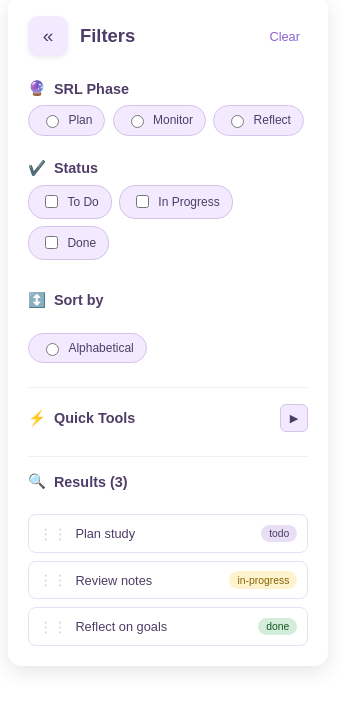
Test: SrlSidebar › Quick Tools › should toggle quick tools section
Click the button named "Expand quick tools" at (294, 418), box [280, 404, 308, 432]
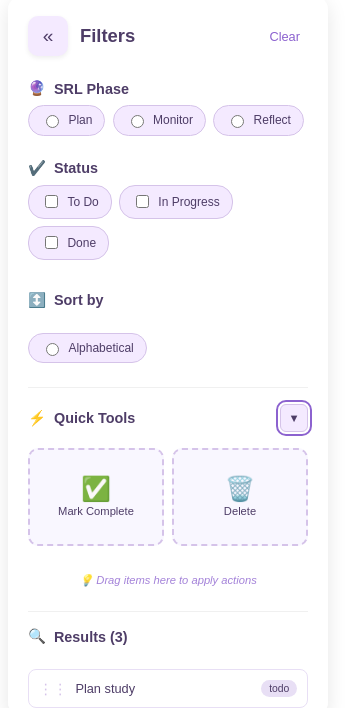
Check: the text "Mark Complete" is shown, box [58, 505, 134, 518]
Check: the text "Delete" is shown, box [224, 505, 256, 518]
